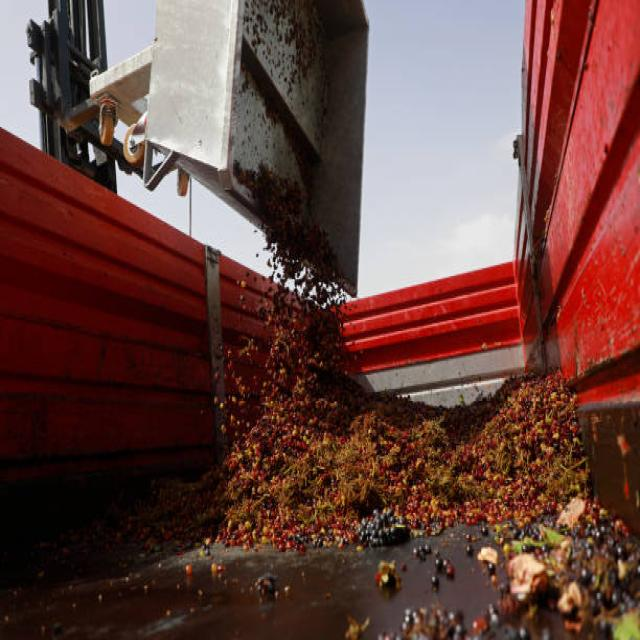trash: (215, 276, 617, 612)
